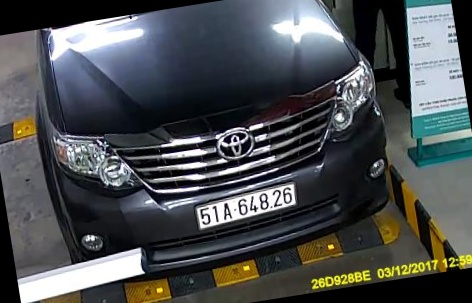plate: (180, 164, 304, 230)
